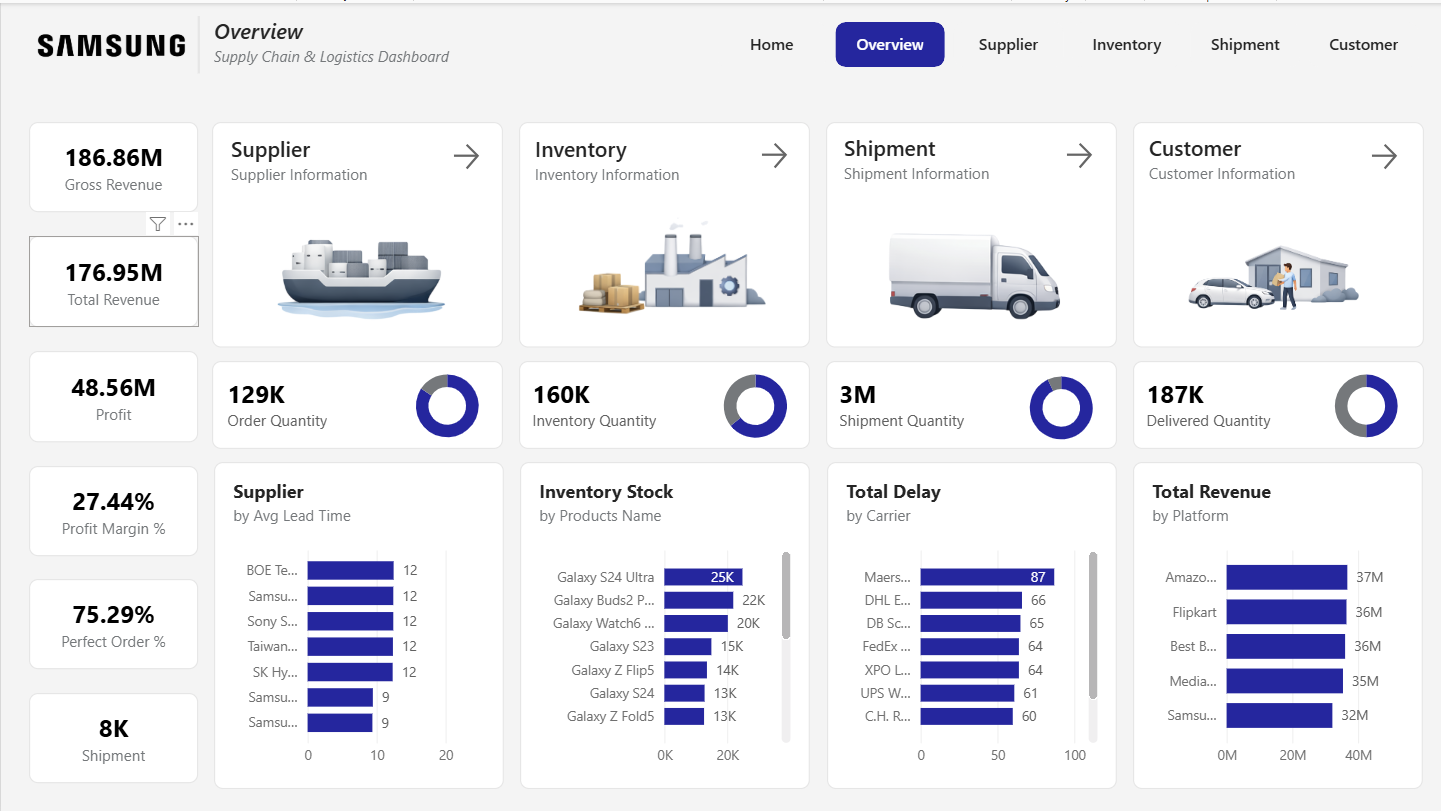

Layout of this report page (visuals, bound fields, positions):
{"tool":"powerbi","page":{"name":"Overview","canvas":[1280,720],"ordinal":1},"visuals":[{"type":"shape","box":[187.5,105.8,258,200],"z":0},{"type":"shape","box":[1003.8,105.8,258,200],"z":1000},{"type":"shape","box":[731.7,105.8,258,200],"z":2000},{"type":"shape","box":[459.6,105.8,258,200],"z":3000},{"type":"image","box":[228.8,167.3,174.4,137.1],"z":4000},{"type":"image","box":[493.9,155.2,191.5,150.2],"z":5000},{"type":"image","box":[773,178.4,175.4,114.9],"z":6000},{"type":"image","box":[1046.2,178.4,172.3,126],"z":7000},{"type":"actionButton","box":[390,115.9,44.3,39.3],"z":8000},{"type":"shape","title":"Supplier","box":[203.6,115.9,161.3,51.4],"z":9000},{"type":"shape","title":"Inventory","box":[473.7,115.9,161.3,51.4],"z":10000},{"type":"shape","title":"Shipment","box":[747.8,114.9,161.3,51.4],"z":11000},{"type":"shape","title":"Customer","box":[1018,114.9,161.3,51.4],"z":12000},{"type":"shape","title":"Overview","box":[188.5,11.1,236.9,51.4],"z":13000},{"type":"shape","box":[162.3,11.1,26.2,51.4],"z":14000},{"type":"image","box":[13.1,20.2,162.3,34.3],"z":15000},{"type":"cardVisual","fields":{"Data":["MeasuresTable.Profit"]},"box":[25.2,308.4,150.2,80.6],"z":16000},{"type":"cardVisual","fields":{"Data":["MeasuresTable.Profit Margin %"]},"box":[25.2,410.2,150.2,79.6],"z":17000},{"type":"cardVisual","fields":{"Data":["MeasuresTable.Perfect_Order %"]},"box":[25.2,511,150.2,79.6],"z":18000},{"type":"cardVisual","fields":{"Data":["MeasuresTable.Total_Shipment"]},"box":[25.2,611.8,150.2,79.6],"z":19000},{"type":"cardVisual","fields":{"Data":["Sum(fact_sales.gross_revenue)"]},"box":[25.2,105.8,150.2,79.6],"z":20000},{"type":"cardVisual","fields":{"Data":["MeasuresTable.Total_Revenue"]},"box":[25.2,206.6,150.2,80.6],"z":21000},{"type":"shape","box":[187.5,317.5,258,77.6],"z":22000},{"type":"shape","box":[459.6,317.5,258,77.6],"z":23000},{"type":"shape","box":[731.7,317.5,258,77.6],"z":24000},{"type":"shape","box":[1003.8,317.5,258,77.6],"z":25000},{"type":"cardVisual","fields":{"Data":["MeasuresTable.Order_QTY"]},"box":[188.5,317.5,117.9,74.6],"z":26000},{"type":"cardVisual","fields":{"Data":["MeasuresTable.Inventory_Value"]},"box":[459.6,317.5,136.1,74.6],"z":27000},{"type":"cardVisual","fields":{"Data":["MeasuresTable.Total_Shipment_Quantity"]},"box":[731.7,317.5,136.1,74.6],"z":28000},{"type":"cardVisual","fields":{"Data":["MeasuresTable.Total_Delivered_Quantity"]},"box":[1003.8,317.5,175.4,74.6],"z":29000},{"type":"clusteredBarChart","title":"Supplier","fields":{"Y":["MeasuresTable.Avg_Lead_Time"],"Category":["dim_supplier.supplier_name"]},"box":[188.5,407.2,257,290],"z":30000},{"type":"clusteredBarChart","title":"Inventory Stock","fields":{"Category":["dim_product.product_name"],"Y":["MeasuresTable.Inventory_Value"]},"box":[460.6,407.2,257,290],"z":31000},{"type":"clusteredBarChart","title":"Total Delay","fields":{"Y":["MeasuresTable.Total_Delay"],"Category":["fact_shipment.carrier"]},"box":[732.7,407.2,257,290],"z":32000},{"type":"clusteredBarChart","title":"Total Revenue","fields":{"Category":["dim_customer.customer_name"],"Y":["MeasuresTable.Total_Revenue"]},"box":[1003.8,407.2,257,290],"z":33000},{"type":"donutChart","fields":{"Y":["MeasuresTable.Inventory_Value","MeasuresTable.Safety_Stock"]},"box":[618.8,317.5,100,80],"z":34000},{"type":"donutChart","fields":{"Y":["MeasuresTable.Total_Shipment","MeasuresTable.Total_Delay"]},"box":[890,319.5,99.8,79.6],"z":35000},{"type":"donutChart","fields":{"Y":["MeasuresTable.Total_Delivered_Quantity","MeasuresTable.Total_QTY_Delay"]},"box":[1161.1,317.5,99.8,79.6],"z":36000},{"type":"donutChart","fields":{"Y":["MeasuresTable.Order_QTY","MeasuresTable.Defect_Rate"]},"box":[345.7,317.5,99.8,79.6],"z":37000},{"type":"actionButton","box":[663.2,114.9,44.3,39.3],"z":38000},{"type":"actionButton","box":[933.3,114.9,44.3,39.3],"z":39000},{"type":"actionButton","box":[1204.4,115.9,44.3,39.3],"z":40000},{"type":"pageNavigator","box":[635,17.1,622.9,40.3],"z":41000}]}

Visuals, with their boxes in screenshot pixels (x1, y1, x2, y2), scaled from the page's 1280x720 canvas onto the 1441x811 screenshot:
shape: region(211, 119, 502, 344)
shape: region(1130, 119, 1421, 344)
shape: region(824, 119, 1114, 344)
shape: region(517, 119, 808, 344)
image: region(258, 188, 454, 343)
image: region(556, 175, 772, 344)
image: region(870, 201, 1068, 330)
image: region(1178, 201, 1372, 343)
actionButton: region(439, 131, 489, 175)
"Supplier" shape: region(229, 131, 411, 188)
"Inventory" shape: region(533, 131, 715, 188)
"Shipment" shape: region(842, 129, 1023, 187)
"Customer" shape: region(1146, 129, 1328, 187)
"Overview" shape: region(212, 13, 479, 70)
shape: region(183, 13, 212, 70)
image: region(15, 23, 197, 61)
cardVisual - MeasuresTable.Profit: region(28, 347, 197, 438)
cardVisual - MeasuresTable.Profit Margin %: region(28, 462, 197, 552)
cardVisual - MeasuresTable.Perfect_Order %: region(28, 576, 197, 665)
cardVisual - MeasuresTable.Total_Shipment: region(28, 689, 197, 779)
cardVisual - Sum(fact_sales.gross_revenue): region(28, 119, 197, 209)
cardVisual - MeasuresTable.Total_Revenue: region(28, 233, 197, 323)
shape: region(211, 358, 502, 445)
shape: region(517, 358, 808, 445)
shape: region(824, 358, 1114, 445)
shape: region(1130, 358, 1421, 445)
cardVisual - MeasuresTable.Order_QTY: region(212, 358, 345, 442)
cardVisual - MeasuresTable.Inventory_Value: region(517, 358, 671, 442)
cardVisual - MeasuresTable.Total_Shipment_Quantity: region(824, 358, 977, 442)
cardVisual - MeasuresTable.Total_Delivered_Quantity: region(1130, 358, 1328, 442)
"Supplier" clusteredBarChart: region(212, 459, 502, 785)
"Inventory Stock" clusteredBarChart: region(519, 459, 808, 785)
"Total Delay" clusteredBarChart: region(825, 459, 1114, 785)
"Total Revenue" clusteredBarChart: region(1130, 459, 1419, 785)
donutChart - MeasuresTable.Inventory_Value x MeasuresTable.Safety_Stock: region(697, 358, 809, 448)
donutChart - MeasuresTable.Total_Shipment x MeasuresTable.Total_Delay: region(1002, 360, 1114, 450)
donutChart - MeasuresTable.Total_Delivered_Quantity x MeasuresTable.Total_QTY_Delay: region(1307, 358, 1419, 447)
donutChart - MeasuresTable.Order_QTY x MeasuresTable.Defect_Rate: region(389, 358, 502, 447)
actionButton: region(747, 129, 796, 174)
actionButton: region(1051, 129, 1101, 174)
actionButton: region(1356, 131, 1406, 175)
pageNavigator: region(715, 19, 1416, 65)
